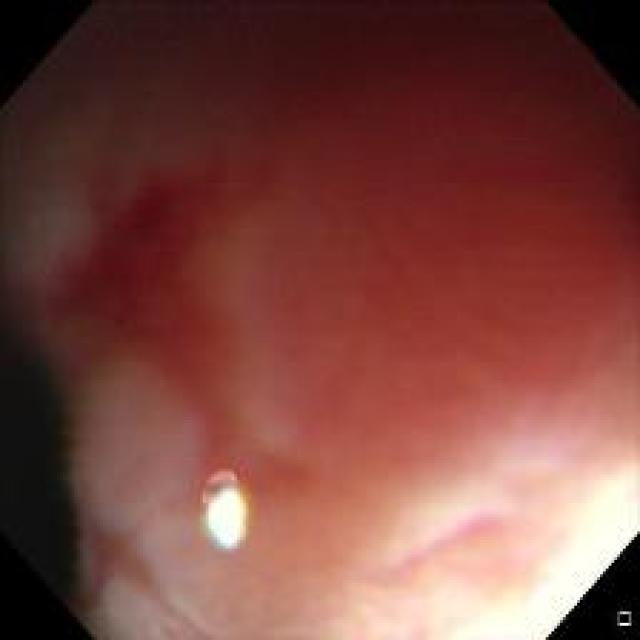blur: (22, 31, 631, 635)
color misalignment: (368, 508, 504, 586), (56, 370, 94, 594)
contrast: (1, 321, 82, 634)
saturation: (416, 438, 632, 638)
specularity: (206, 486, 248, 549)
